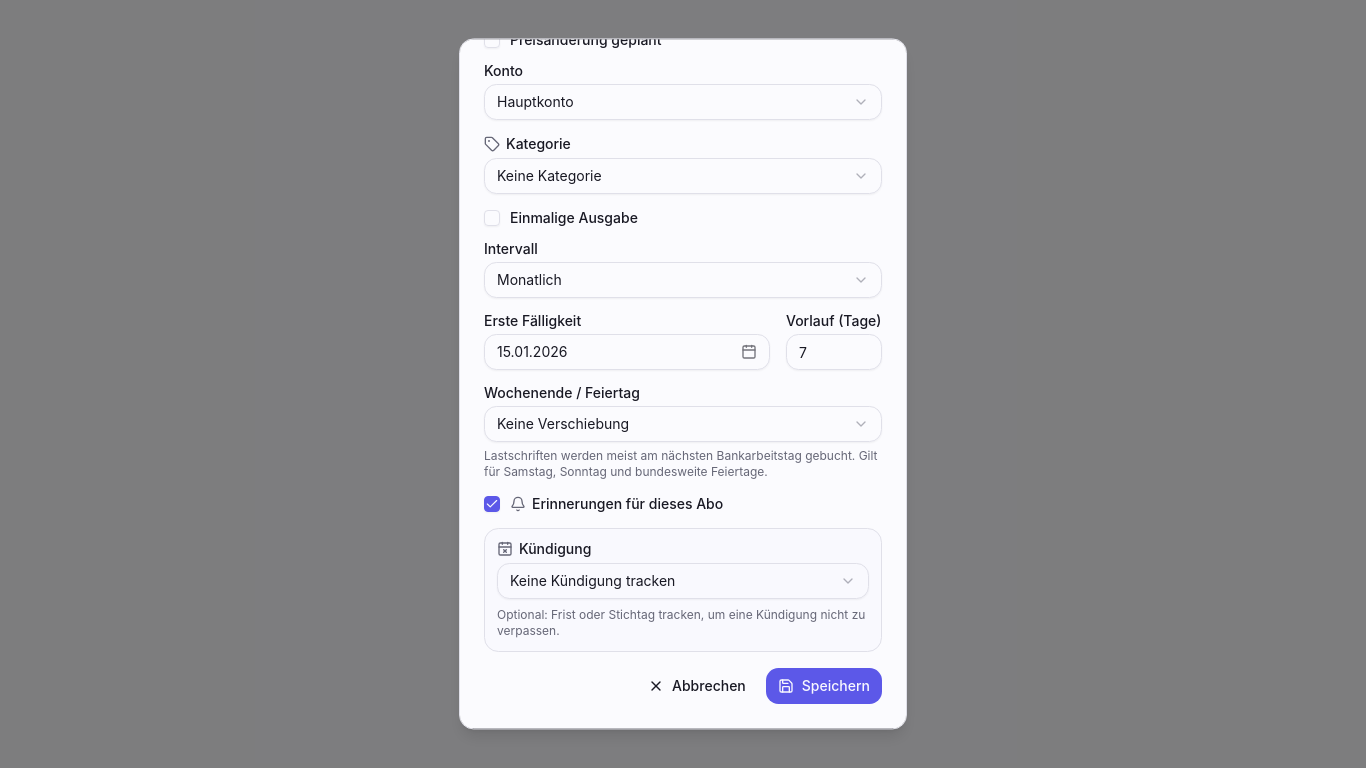
Test: SubscriptionDialog › zeigt feldnahe Fehlermeldung bei unbekannter Waehrung
(page scrolled)
Click the button "Speichern": (824, 686) [766,668,882,704]
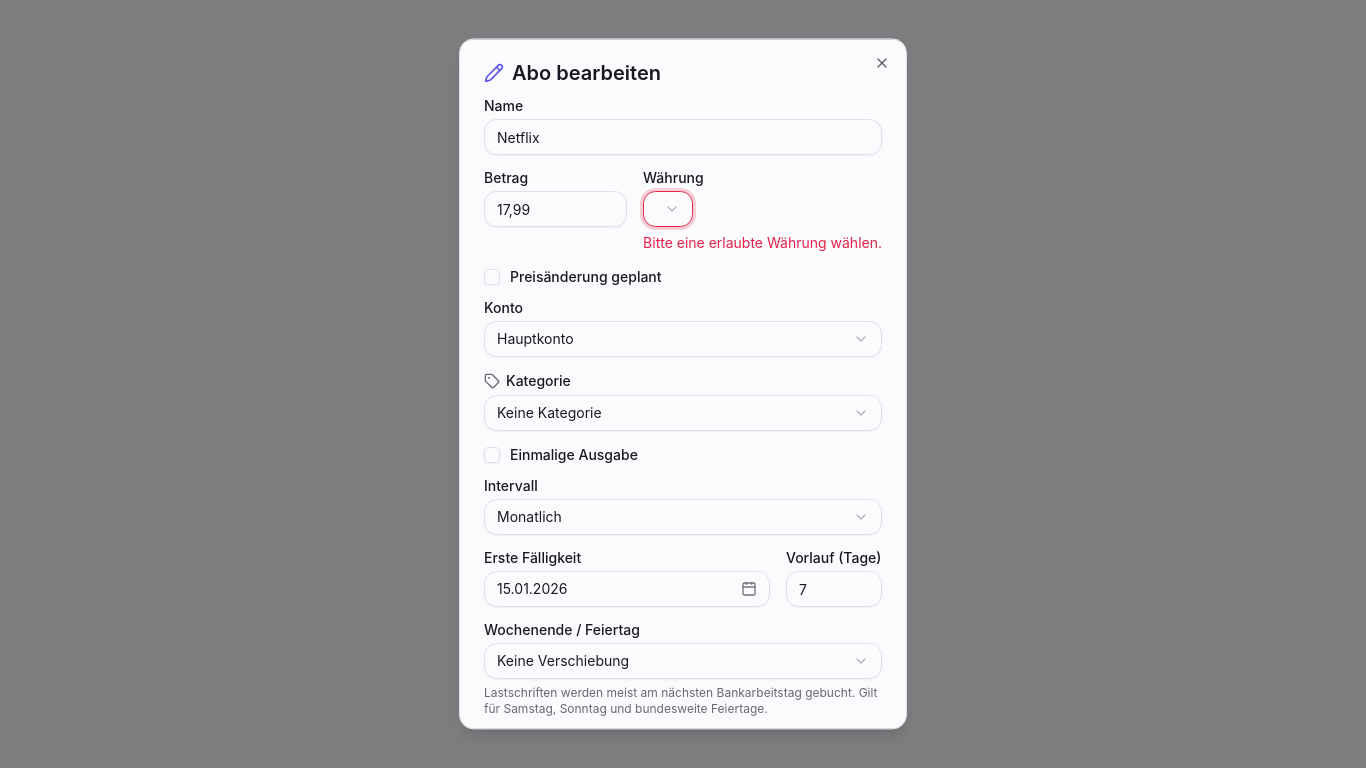
Expected: the text "Bitte eine erlaubte Währung wählen." is shown, [643,233,882,253]
